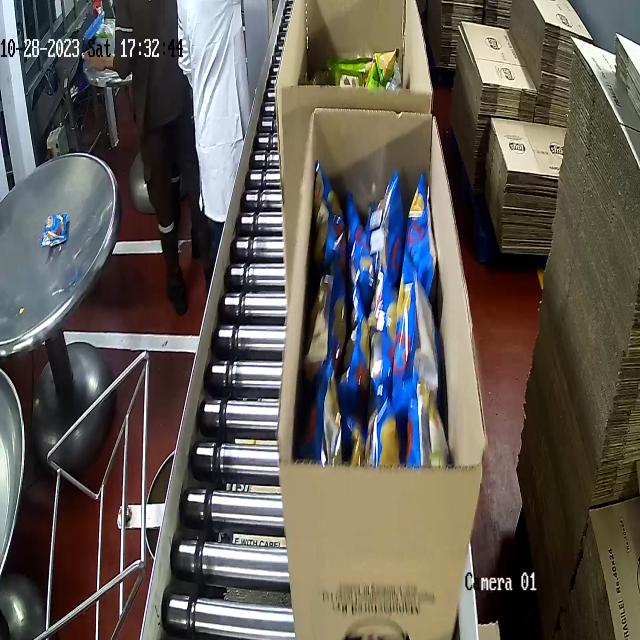PAPRIKA: (309, 156, 450, 465)
